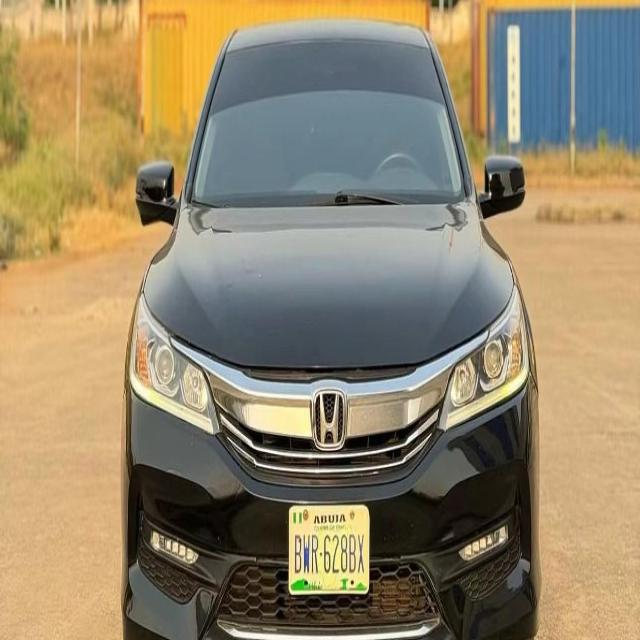Nigerian License Plate - vdataset benjamin-daria: (288, 503, 370, 599)
